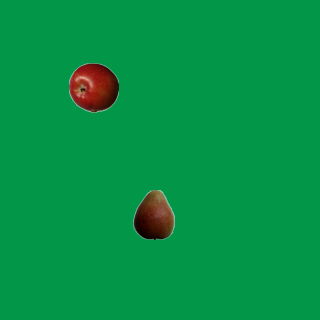Apple Braeburn: (68, 62, 118, 112)
Pear Forelle: (128, 189, 178, 239)
